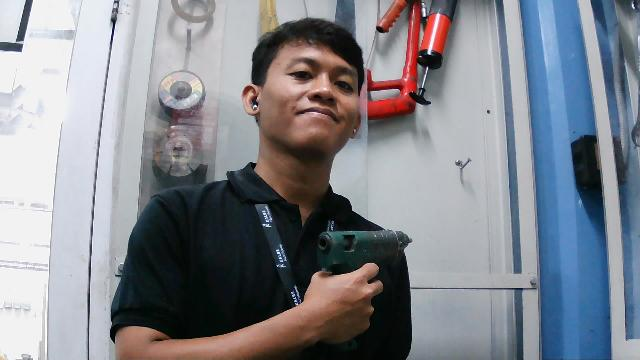gun_lem: (299, 213, 434, 313)
